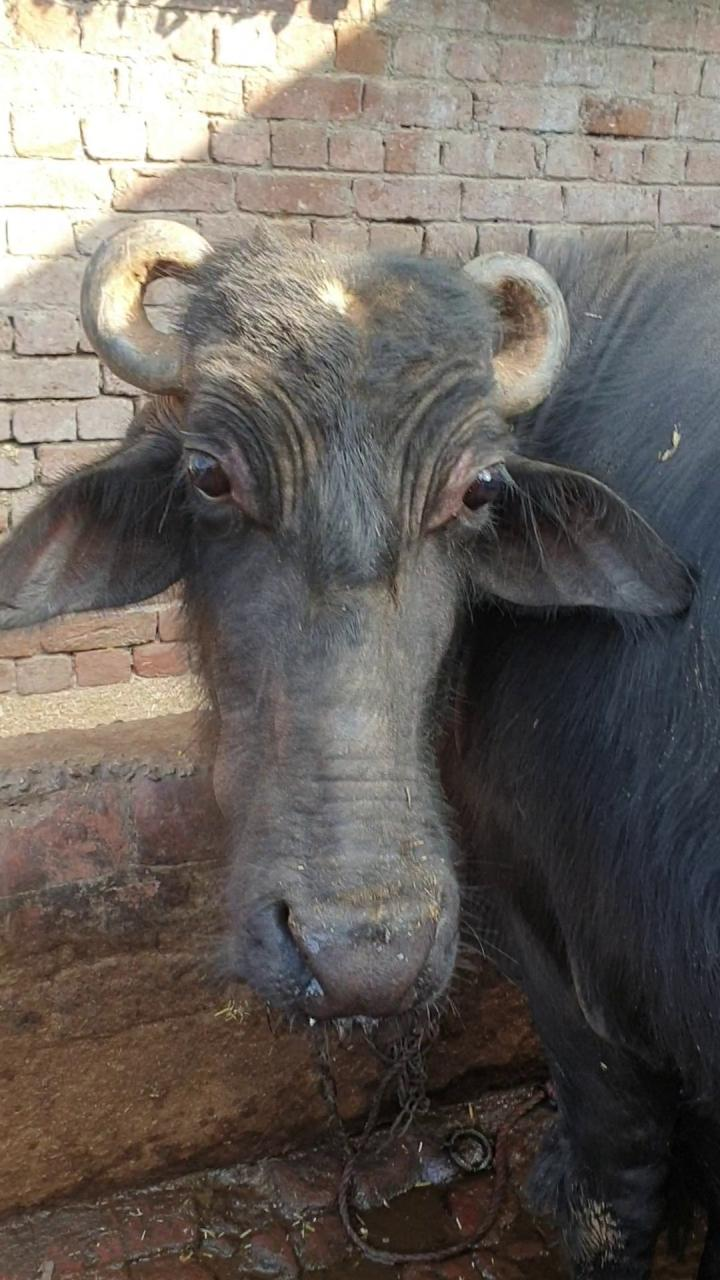cows: (180, 222, 533, 1058)
